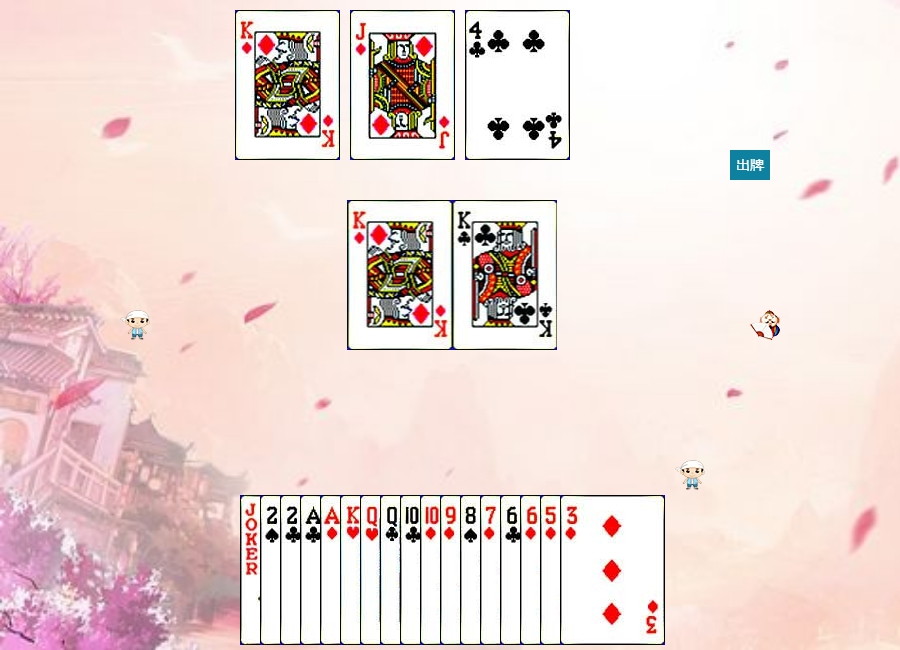10~1: (420, 495, 525, 645)
10~2: (400, 495, 505, 645)
11~1: (350, 10, 455, 160)
12~2: (380, 495, 485, 645)
12~3: (360, 495, 465, 645)
13~1: (235, 10, 340, 160), (348, 200, 453, 350)
13~2: (453, 200, 558, 350)
13~3: (340, 495, 445, 645)
14~1: (320, 495, 425, 645)
14~2: (300, 495, 405, 645)
15~2: (280, 495, 385, 645)
15~4: (260, 495, 365, 645)
18~4: (240, 495, 345, 645)
3~1: (560, 495, 665, 645)
4~2: (465, 10, 570, 160)
5~1: (540, 495, 645, 645)
6~1: (520, 495, 625, 645)
6~2: (500, 495, 605, 645)
7~1: (480, 495, 585, 645)
8~4: (460, 495, 565, 645)
9~1: (440, 495, 545, 645)
